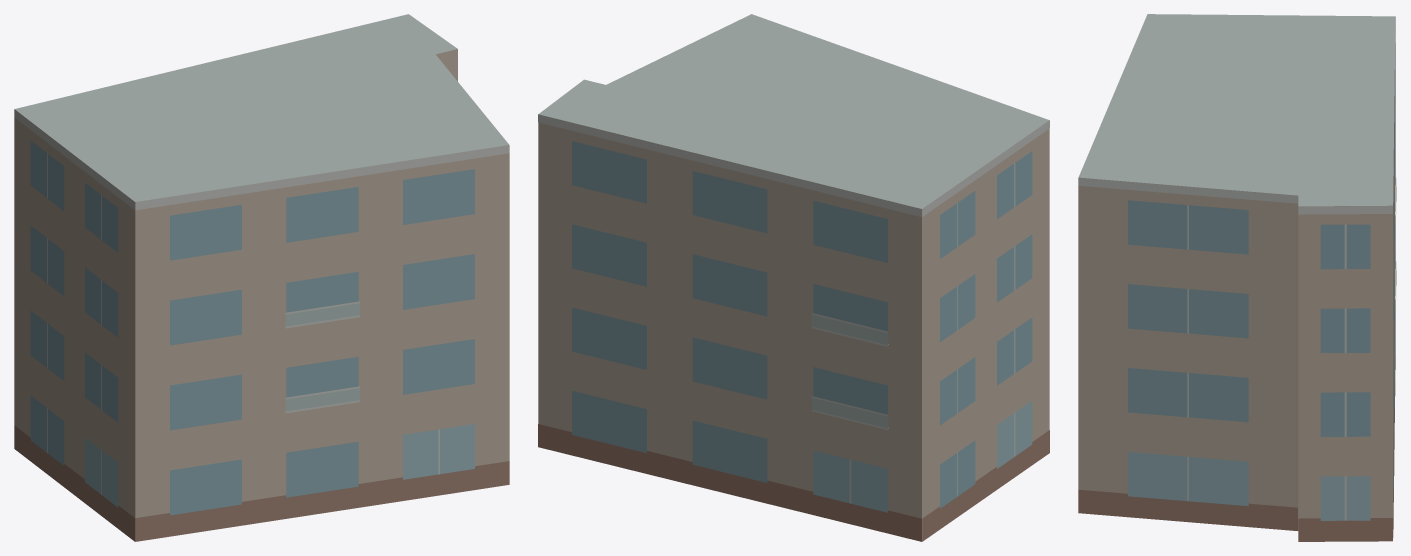
Rendered from survey-upis-32908679.glb.
3 views of the same model, side by side, from view 1: azimuth 30°, elevation 25°; view 2: azimuth 150°, elevation 25°; view 3: azimuth 270°, elevation 25° (orthographic). The views are drawn at different scales.
Visible parts, largest first — view 1: survey-upis-32908679.tmp; view 2: survey-upis-32908679.tmp; view 3: survey-upis-32908679.tmp.
Boxes of the visible parts, bbox=[...] form: survey-upis-32908679.tmp: bbox=[14, 14, 509, 541]; survey-upis-32908679.tmp: bbox=[538, 14, 1049, 541]; survey-upis-32908679.tmp: bbox=[1078, 14, 1396, 541].
Bounding box in the file's own units: 12.3 × 10 × 8.61.
